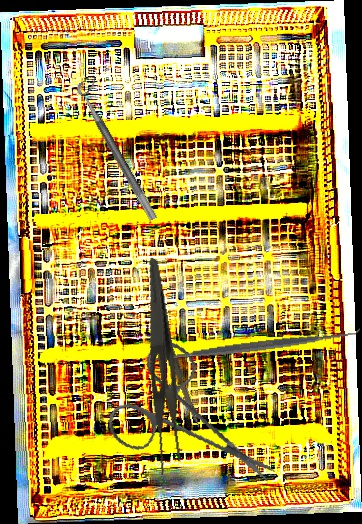Dressing Forceps: (124, 256, 193, 478)
Fixation Ring: (73, 75, 170, 222)
Iris Scissors: (95, 326, 276, 510)
Pusher: (146, 300, 206, 429)
Spatula Surgical: (146, 322, 362, 372)
